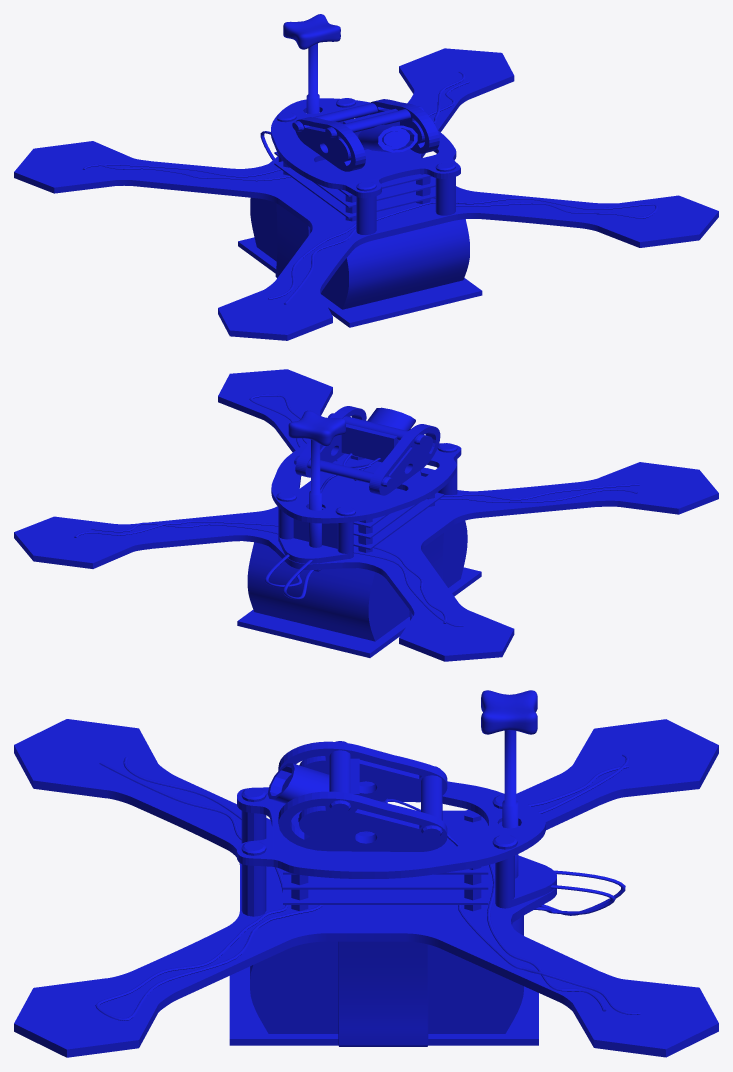
The model's file is bodyplavi.fbx.
3 views of the same model, one above another, from view 1: azimuth 30°, elevation 25°; view 2: azimuth 150°, elevation 25°; view 3: azimuth 270°, elevation 25° (orthographic). The views are drawn at different scales.
Parts seen in each view (by area): view 1: Drone; view 2: Drone; view 3: Drone.
Boxes of the visible parts, box(x1,y1,x2,y2) form: Drone: box(14, 14, 718, 340); Drone: box(14, 369, 718, 661); Drone: box(14, 690, 718, 1057).
Bounding box in the file's own units: 594 × 254 × 535.
